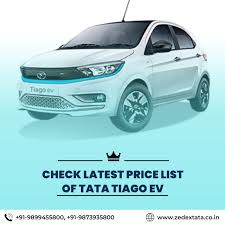Tiago: (15, 17, 214, 137)
